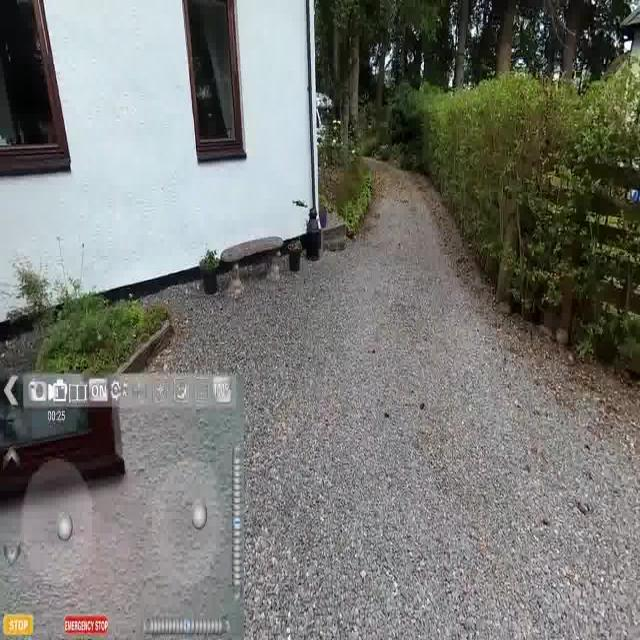drones: (287, 193, 314, 212)
